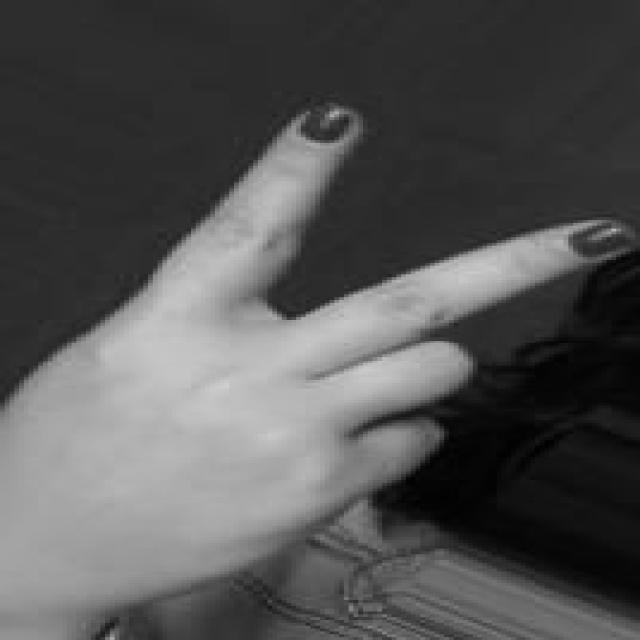V: (6, 95, 640, 639)
